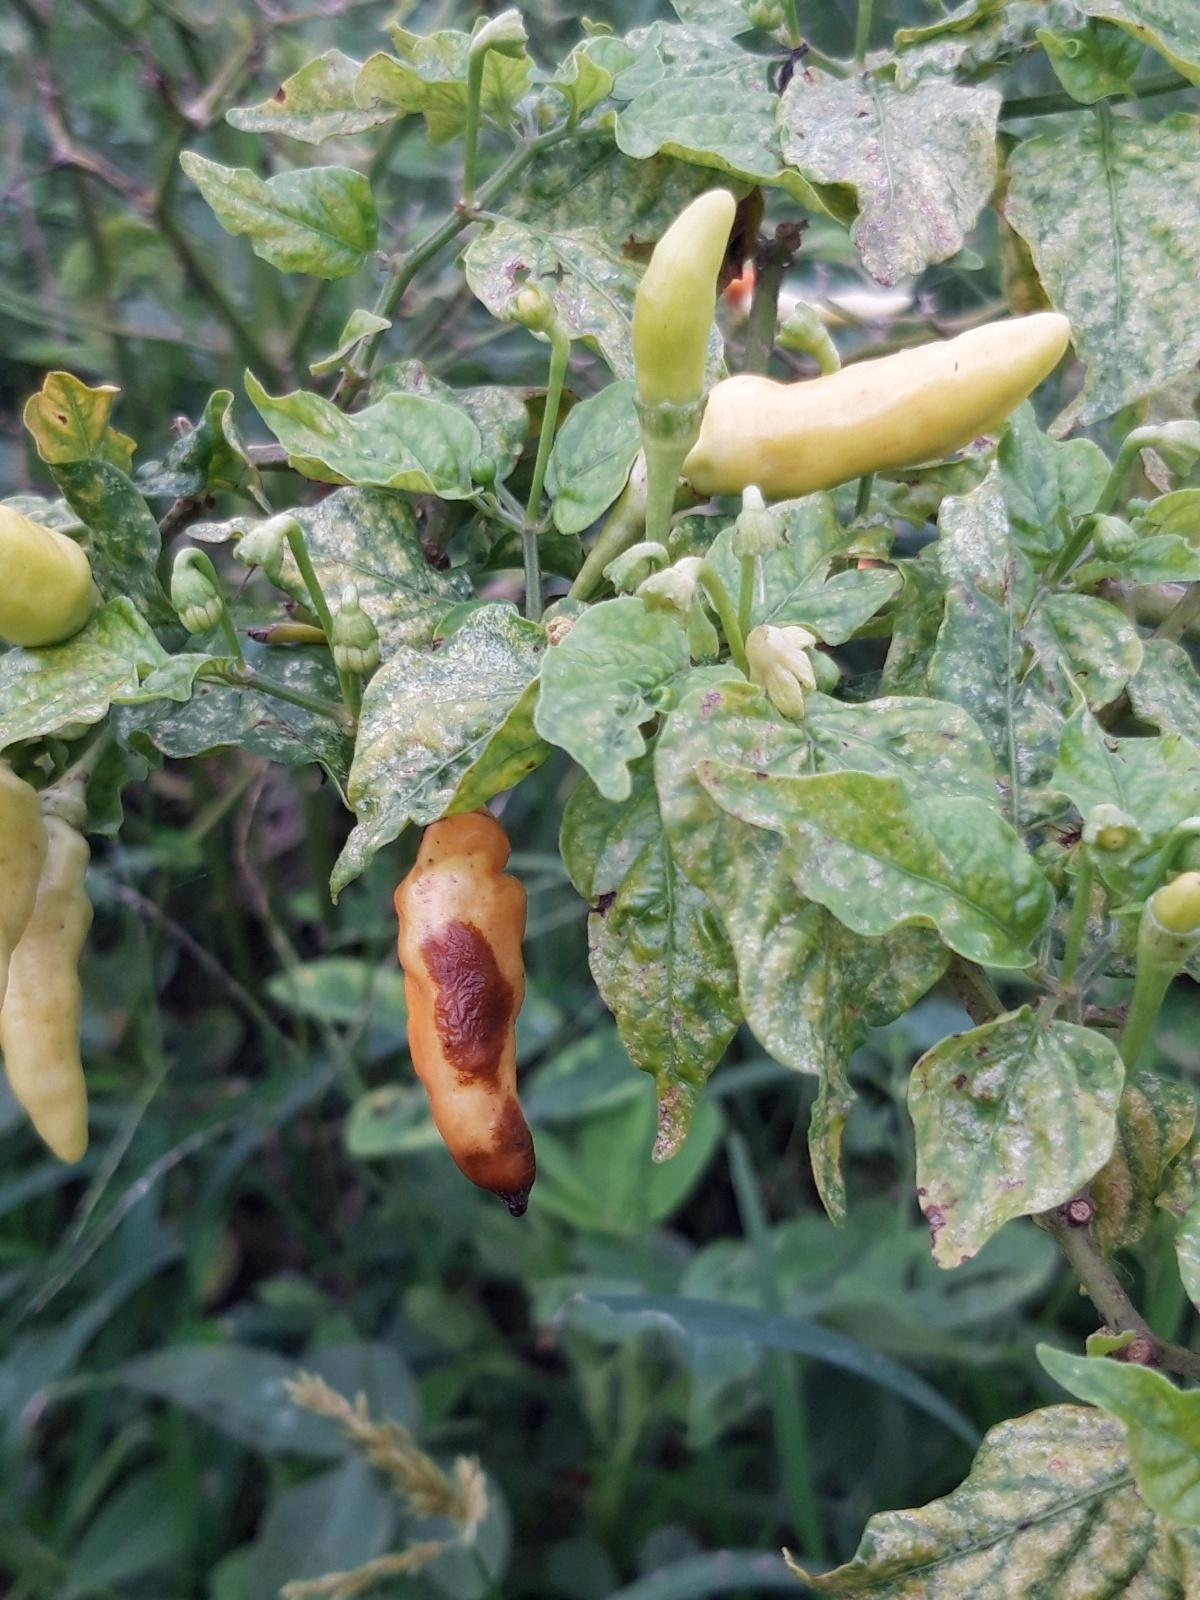cabai_normal: (678, 312, 1070, 501), (1, 781, 96, 1165), (632, 189, 737, 442)
lalat_buah: (397, 810, 536, 1218)
